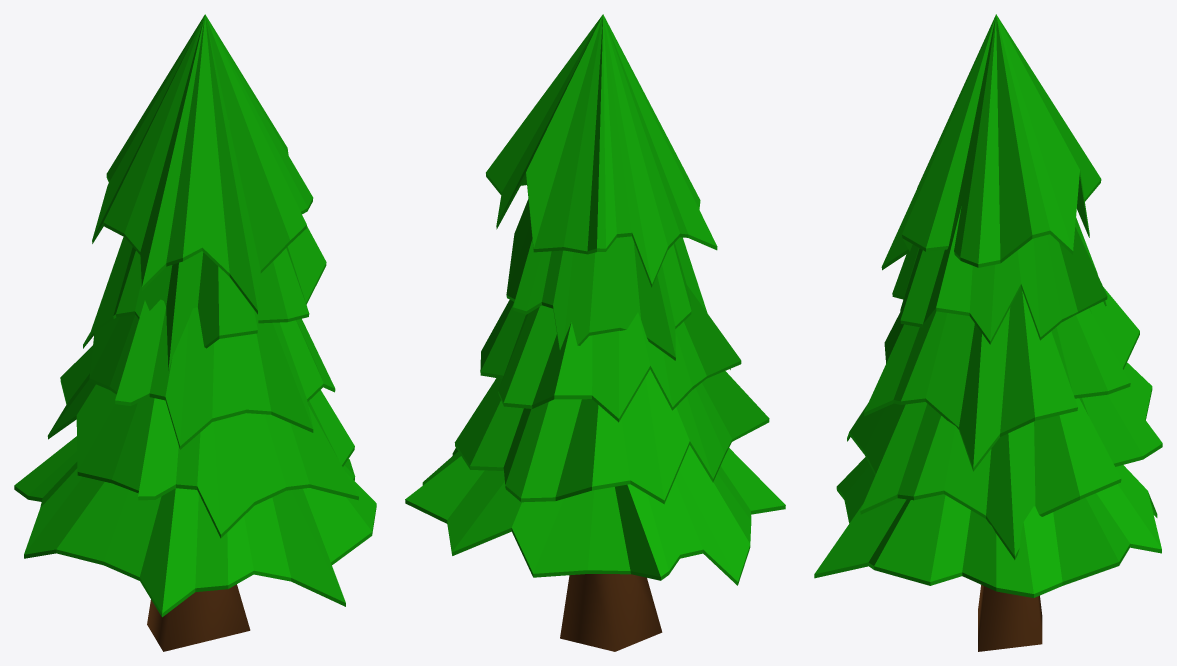
File: TreeThree.fbx
The picture shows the model from 3 angles, left to right: view 1: azimuth 30°, elevation 25°; view 2: azimuth 150°, elevation 25°; view 3: azimuth 270°, elevation 25°; orthographic projection.
Visible parts, largest first — view 1: Cube; view 2: Cube; view 3: Cube.
Boxes of the visible parts, x1=… form: Cube: x1=14, y1=14, x2=376, y2=651; Cube: x1=405, y1=14, x2=785, y2=651; Cube: x1=814, y1=14, x2=1162, y2=651.
Size of the model in its own units: 216 by 396 by 202.
